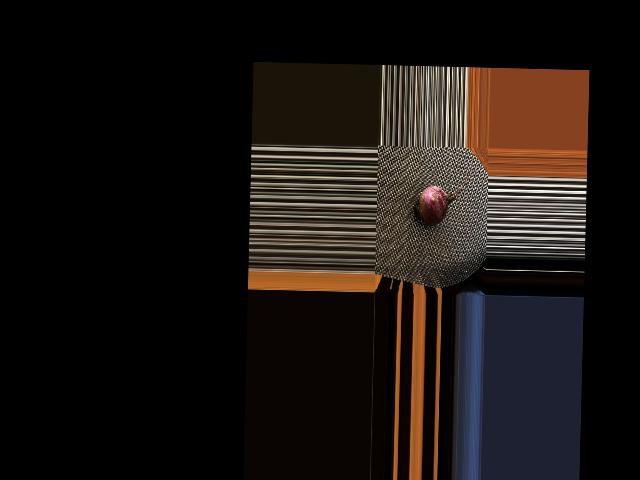beet: (412, 167, 469, 227)
